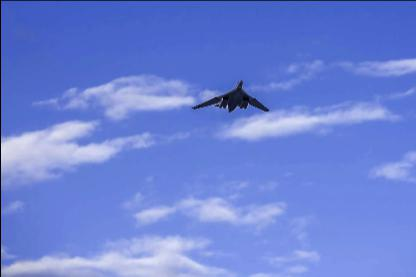Su34: (190, 79, 268, 113)
